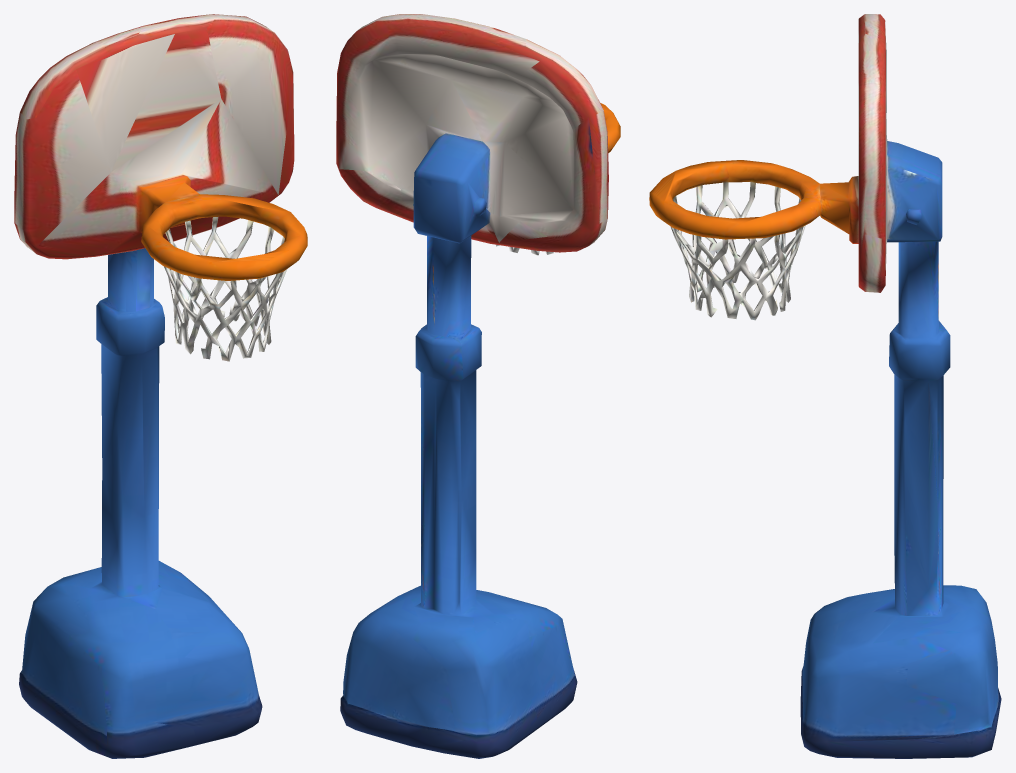
The model's file is hoop.glb.
3 renders of one model, left to right at view 1: azimuth 30°, elevation 25°; view 2: azimuth 150°, elevation 25°; view 3: azimuth 270°, elevation 25°, orthographic. The views are drawn at different scales.
Visible parts, largest first — view 1: model; view 2: model; view 3: model.
Part boxes in pixels (x1,y1,x2,y2): model: (14, 14, 307, 758); model: (336, 14, 620, 758); model: (649, 14, 1001, 758).
Bounding box in the file's own units: 0.7715 × 1.9 × 0.8902.
Materials: 1 (1 with a texture image).
